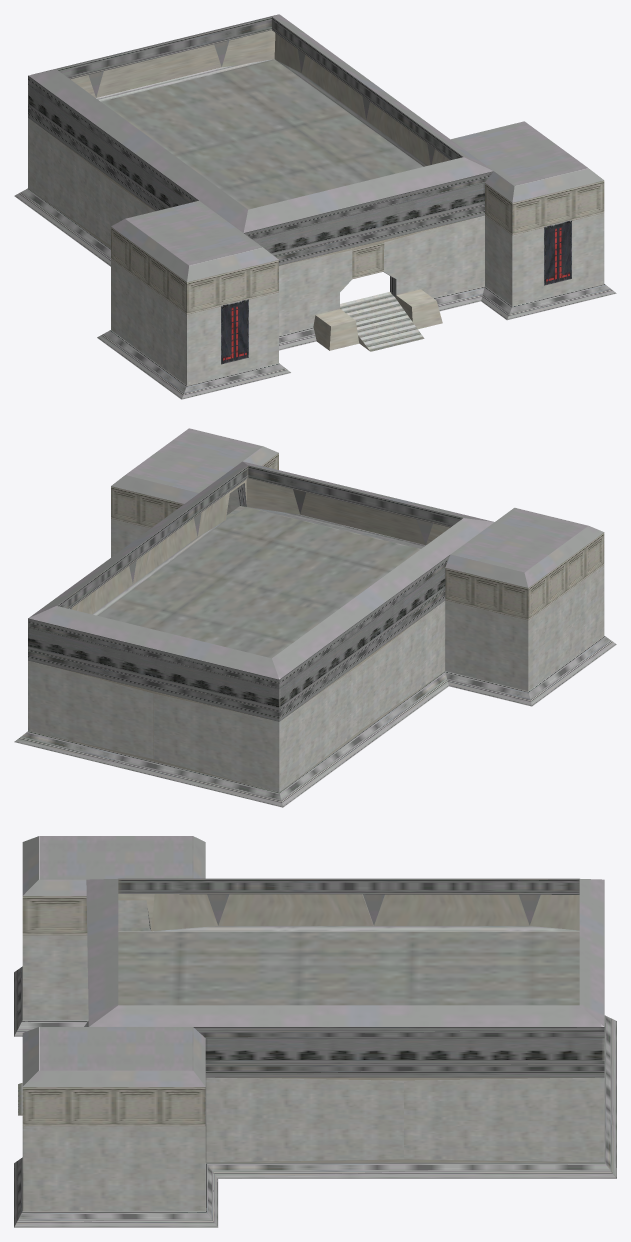
The model's file is thm_corl_assoc_hall_civ_s01_r0_exterior_mesh_exterior_l2.fbx.
3 views of the same model, one above another, from view 1: azimuth 30°, elevation 25°; view 2: azimuth 150°, elevation 25°; view 3: azimuth 270°, elevation 25° (orthographic). The views are drawn at different scales.
Parts seen in each view (by area): view 1: mesh_node; view 2: mesh_node; view 3: mesh_node.
Part boxes in pixels (x1,y1,x2,y2): mesh_node: [14, 14, 616, 399]; mesh_node: [14, 428, 616, 807]; mesh_node: [14, 836, 616, 1227].
Bounding box in the file's own units: 48.51 × 14 × 48.38.
1 material, 1 textured.
